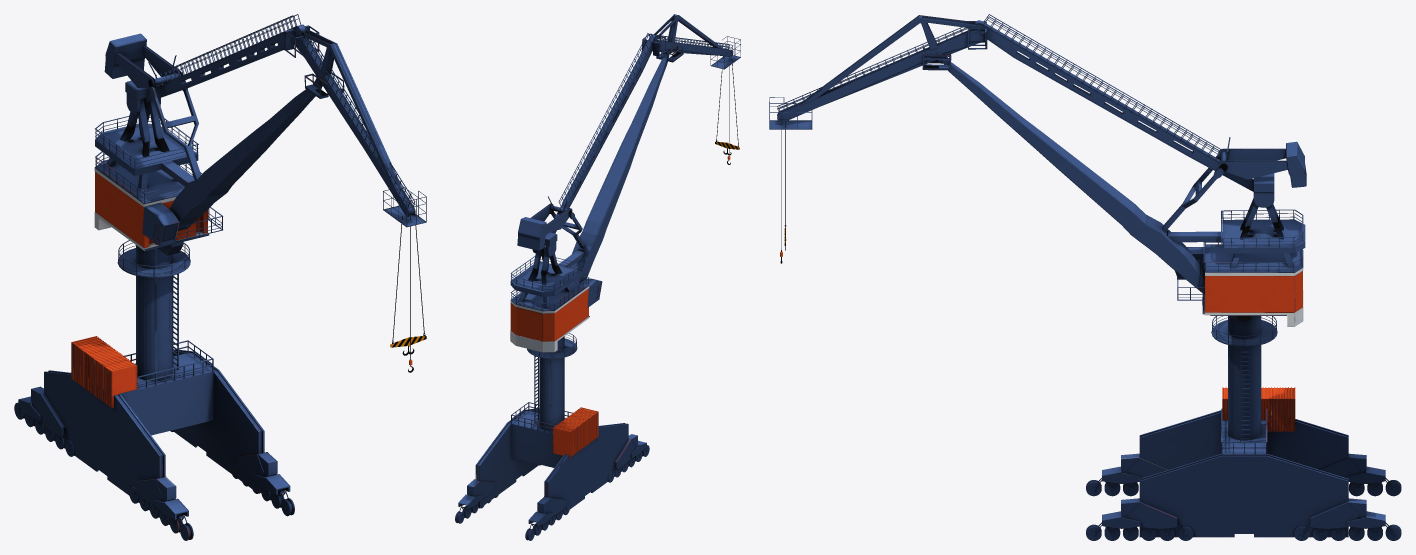
Rendered from LLC_002.glb.
The picture shows the model from 3 angles, left to right: view 1: azimuth 30°, elevation 25°; view 2: azimuth 150°, elevation 25°; view 3: azimuth 270°, elevation 25°; orthographic projection. The views are drawn at different scales.
Parts seen in each view (by area): view 1: Base, Link_01, Upper Link_01, Upper Link_02, Lower Link_01, Lower Link_02, Link_End; view 2: Base, Link_01, Upper Link_01, Lower Link_01, Upper Link_02, Link_End, Lower Link_02; view 3: Base, Link_01, Upper Link_01, Lower Link_01, Upper Link_02, Lower Link_02.
Boxes of the visible parts, box(x1,y1,x2,y2) form: Base: box(14, 240, 294, 540); Link_01: box(94, 80, 223, 255); Upper Link_01: box(104, 14, 319, 102); Upper Link_02: box(294, 27, 426, 227); Lower Link_01: box(169, 78, 322, 230); Lower Link_02: box(149, 80, 200, 180); Link_End: box(390, 215, 426, 372); Base: box(455, 333, 649, 540); Link_01: box(510, 232, 602, 352); Upper Link_01: box(517, 33, 666, 250); Lower Link_01: box(569, 50, 669, 282); Upper Link_02: box(649, 14, 740, 69); Link_End: box(715, 56, 739, 164); Lower Link_02: box(550, 210, 585, 248); Base: box(1086, 316, 1401, 540); Link_01: box(1168, 173, 1305, 326); Upper Link_01: box(967, 14, 1306, 191); Lower Link_01: box(940, 53, 1204, 294); Upper Link_02: box(769, 15, 984, 129); Lower Link_02: box(1162, 155, 1223, 231).
Bounding box in the file's own units: 11.57 × 53.22 × 60.69.
4 materials, 4 textured.
